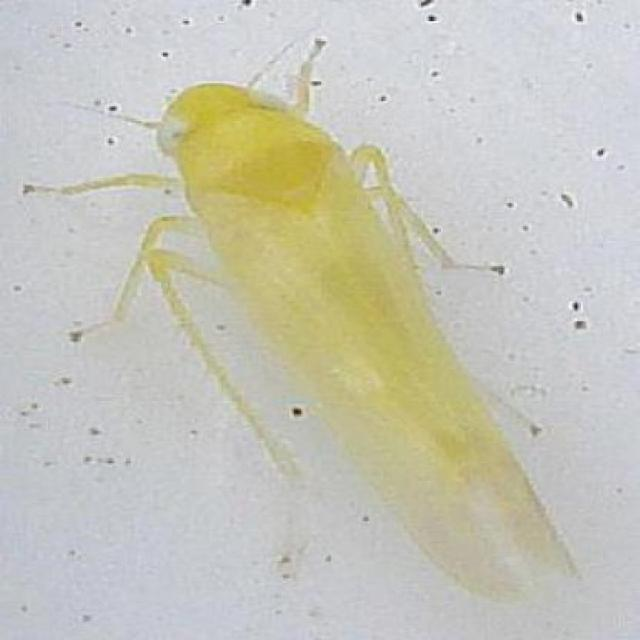green-leafhopper: (148, 89, 583, 589)
